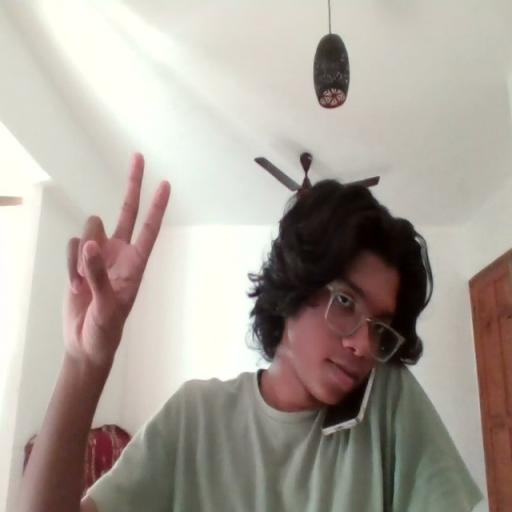scissor: (63, 148, 175, 373)
